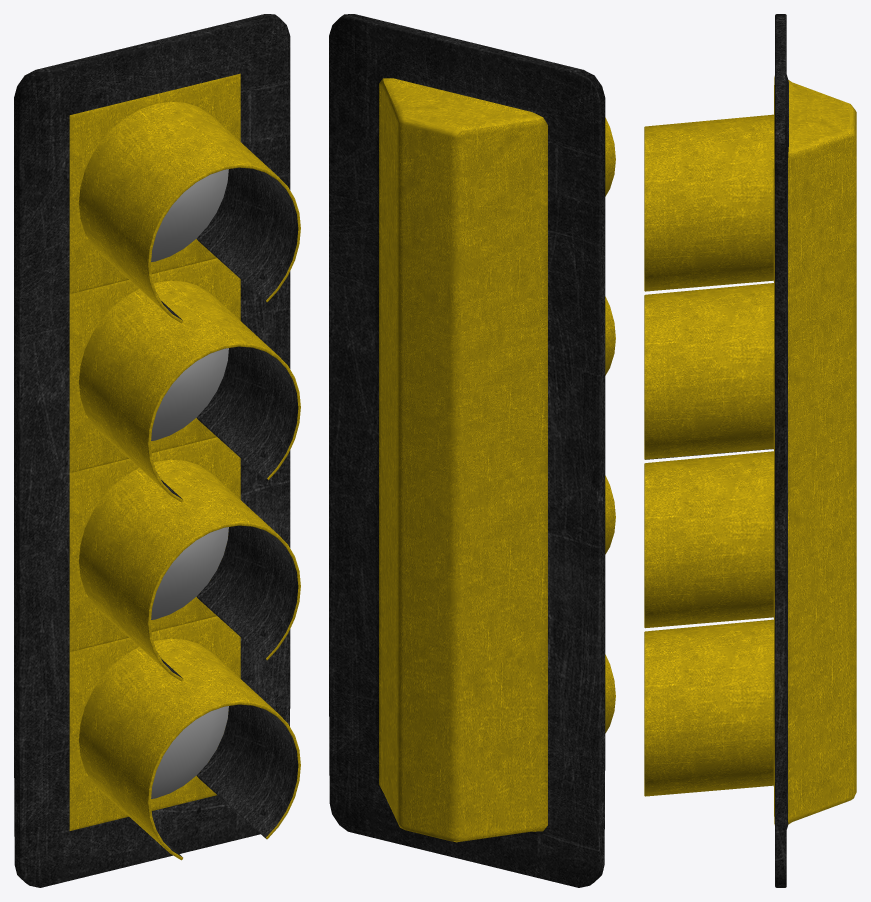
The model's file is TrafficSignalVerticalHalfConeBlack4.fbx.
The picture shows the model from 3 angles, left to right: view 1: azimuth 30°, elevation 25°; view 2: azimuth 150°, elevation 25°; view 3: azimuth 270°, elevation 25°; orthographic projection. The views are drawn at different scales.
Visible parts, largest first — view 1: Casing, SignalLight1, SignalLight3, SignalLight2, SignalLight0; view 2: Casing; view 3: Casing.
Boxes of the visible parts, x1,y1,x2,y2 form: Casing: [14, 14, 300, 887]; SignalLight1: [151, 348, 228, 440]; SignalLight3: [151, 706, 228, 798]; SignalLight2: [151, 527, 228, 619]; SignalLight0: [151, 169, 228, 261]; Casing: [329, 14, 615, 887]; Casing: [644, 14, 856, 887].
Size of the model in its own units: 0.6568 by 1.88 by 0.473.
